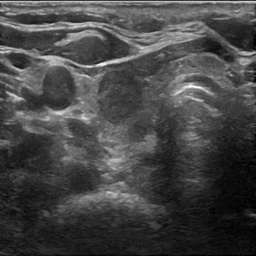mass: (42, 65, 76, 107)
